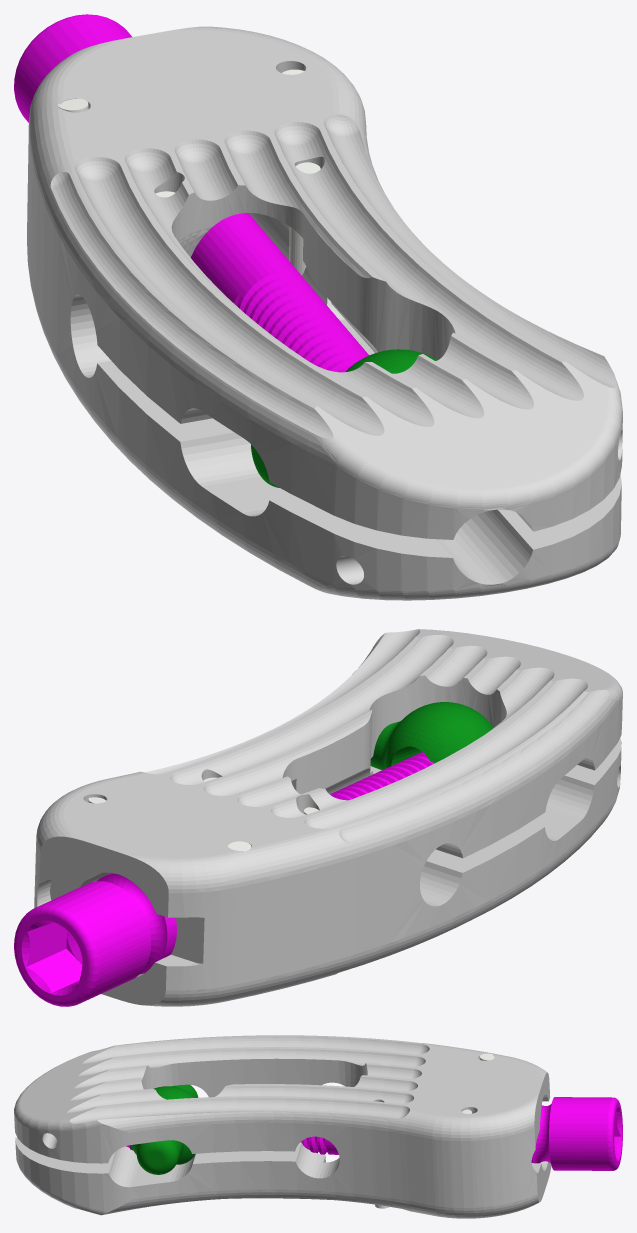
Rendered from sonhaliparcakopya.glb.
3 views of the same model, one above another, from view 1: azimuth 30°, elevation 25°; view 2: azimuth 150°, elevation 25°; view 3: azimuth 270°, elevation 25° (orthographic). The views are drawn at different scales.
Visible parts, largest first — view 1: BIOMECH EXPANDABLE TLIF CAGE, vida, baglanti parcasi.001, 4 lu minik boru.002; view 2: BIOMECH EXPANDABLE TLIF CAGE, vida, baglanti parcasi.001; view 3: BIOMECH EXPANDABLE TLIF CAGE, vida, baglanti parcasi.001.
Part boxes in pixels (<box>): BIOMECH EXPANDABLE TLIF CAGE: <box>27,26,622,600</box>; vida: <box>14,14,368,372</box>; baglanti parcasi.001: <box>251,349,437,487</box>; 4 lu minik boru.002: <box>289,162,320,275</box>; BIOMECH EXPANDABLE TLIF CAGE: <box>34,629,622,1006</box>; vida: <box>14,752,434,1006</box>; baglanti parcasi.001: <box>370,702,493,770</box>; BIOMECH EXPANDABLE TLIF CAGE: <box>14,1035,551,1218</box>; vida: <box>126,1097,622,1170</box>; baglanti parcasi.001: <box>130,1084,198,1174</box>.
Bounding box in the file's own units: 13.56 × 7.04 × 33.09.
